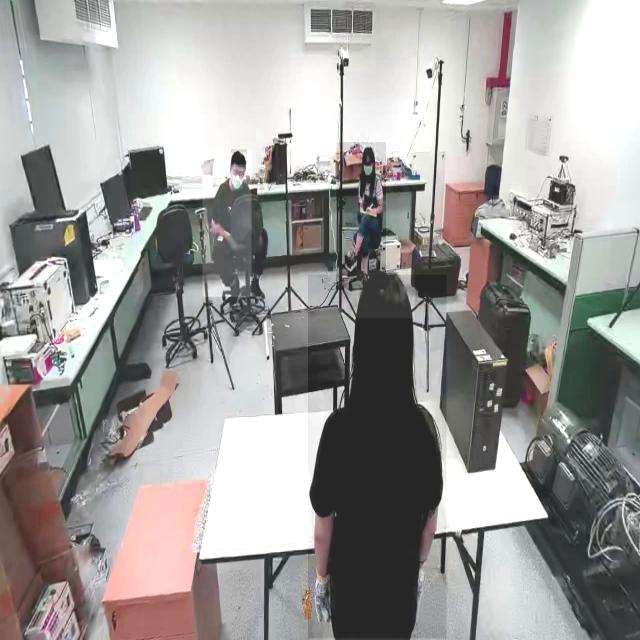face_mask: (359, 157, 375, 186), (230, 167, 243, 189)
hand_glove: (312, 562, 335, 627)
hand_noglove: (366, 204, 376, 216)
head_nohelmet: (356, 269, 414, 319), (231, 150, 247, 166), (362, 145, 376, 157)
person: (308, 275, 447, 639), (336, 142, 386, 290), (202, 153, 252, 298)
shoes: (247, 274, 267, 301), (229, 274, 243, 303), (344, 250, 358, 274)
